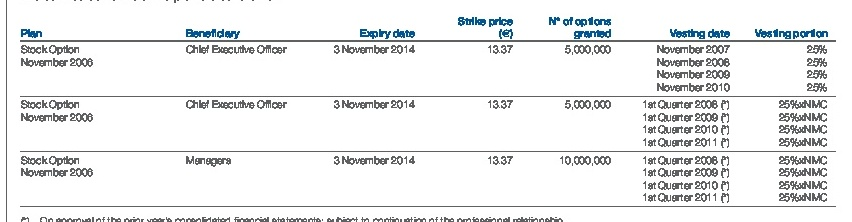table: (0, 0, 852, 222)
